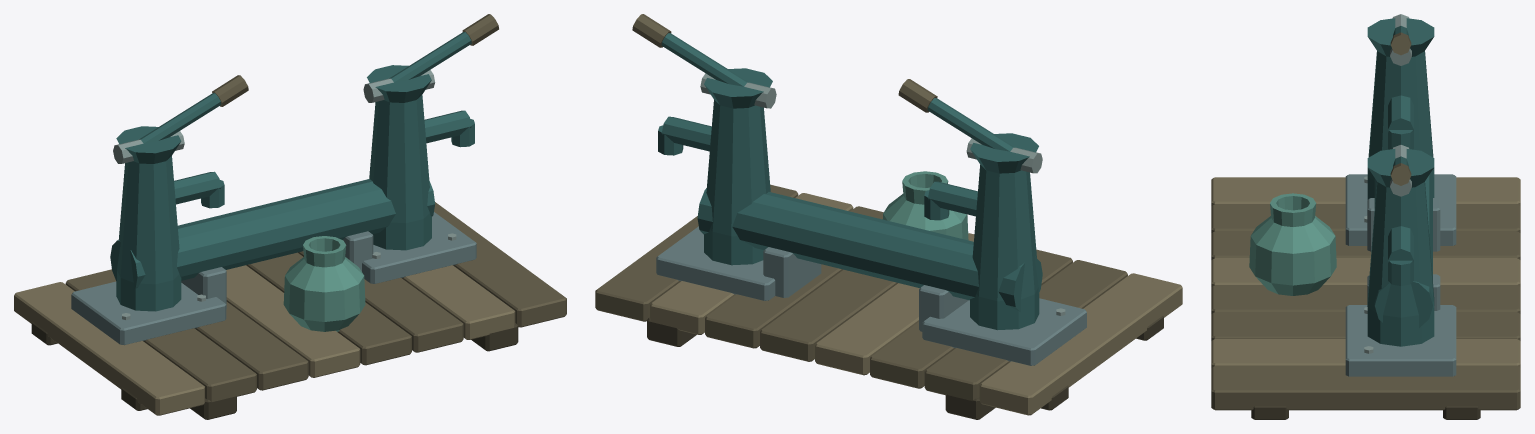
Rendered from pump-bank.glb.
3 views of the same model, side by side, from view 1: azimuth 30°, elevation 25°; view 2: azimuth 150°, elevation 25°; view 3: azimuth 270°, elevation 25° (orthographic). The views are drawn at different scales.
Visible parts, largest first — view 1: pump-bank__body; view 2: pump-bank__body; view 3: pump-bank__body.
Boxes of the visible parts, <box> form: pump-bank__body: <box>14,14,566,419</box>; pump-bank__body: <box>595,14,1182,419</box>; pump-bank__body: <box>1211,14,1520,419</box>.
Size of the model in its own units: 1.82 by 1.01 by 1.06.
